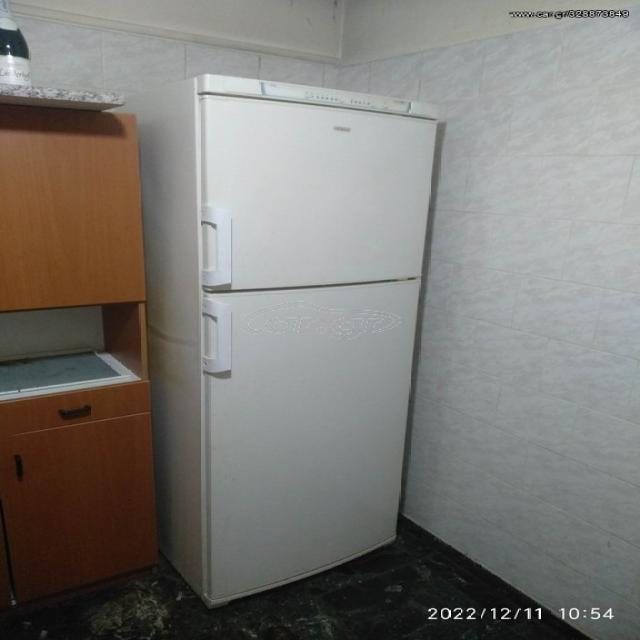refrigerator: (186, 91, 458, 598)
